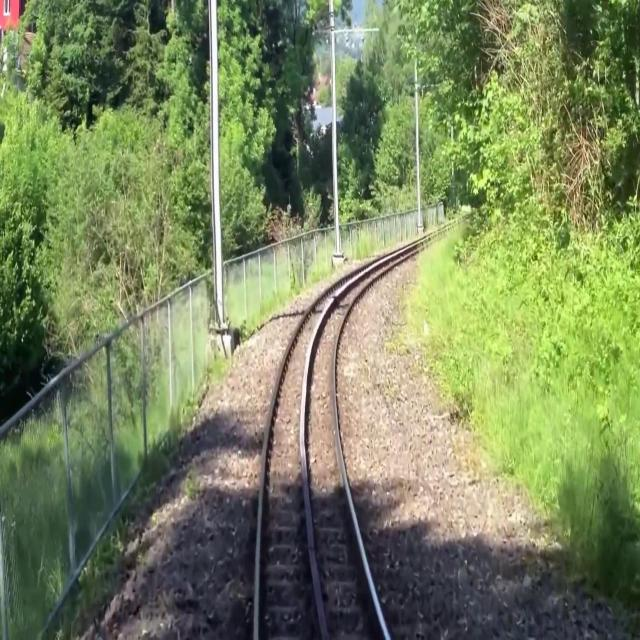rail-track: (258, 216, 464, 639)
